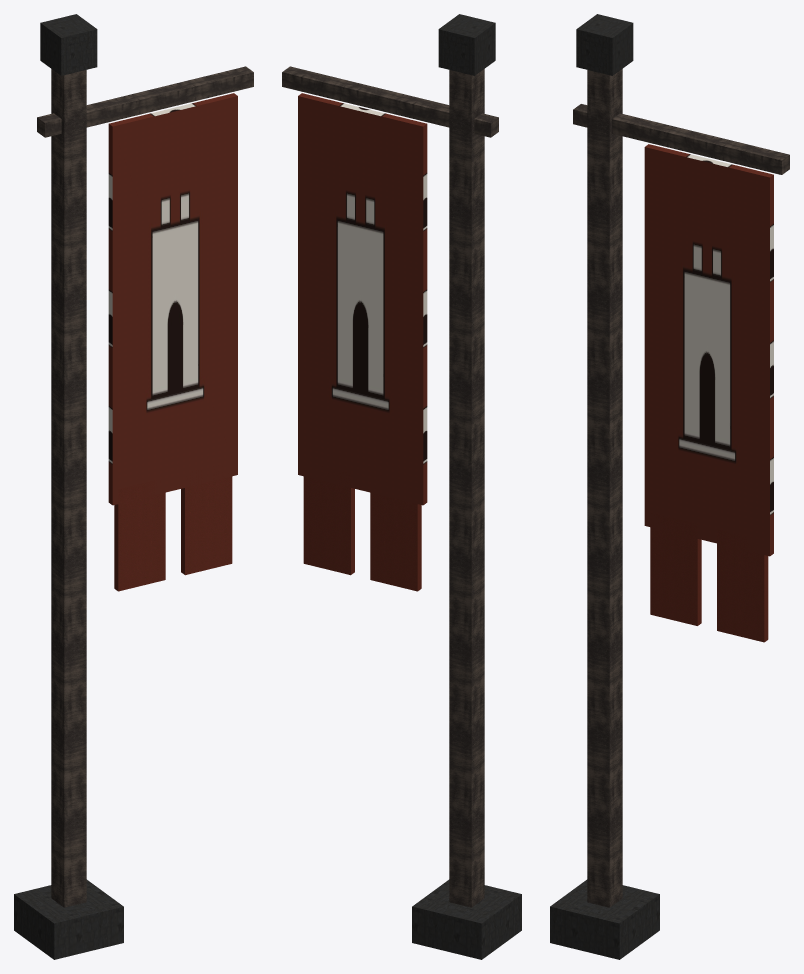
The model's file is prop_hk_banner_pole.glb.
3 renders of one model, left to right at view 1: azimuth 30°, elevation 25°; view 2: azimuth 150°, elevation 25°; view 3: azimuth 330°, elevation 25°, orthographic.
Parts seen in each view (by area): view 1: prop_hk_banner_pole; view 2: prop_hk_banner_pole; view 3: prop_hk_banner_pole.
Part boxes in pixels (bbox=[...]): prop_hk_banner_pole: bbox=[14, 14, 253, 959]; prop_hk_banner_pole: bbox=[282, 14, 521, 959]; prop_hk_banner_pole: bbox=[550, 14, 789, 959].
Size of the model in its own units: 1.55 by 6.25 by 0.5.
4 materials, 4 textured.
